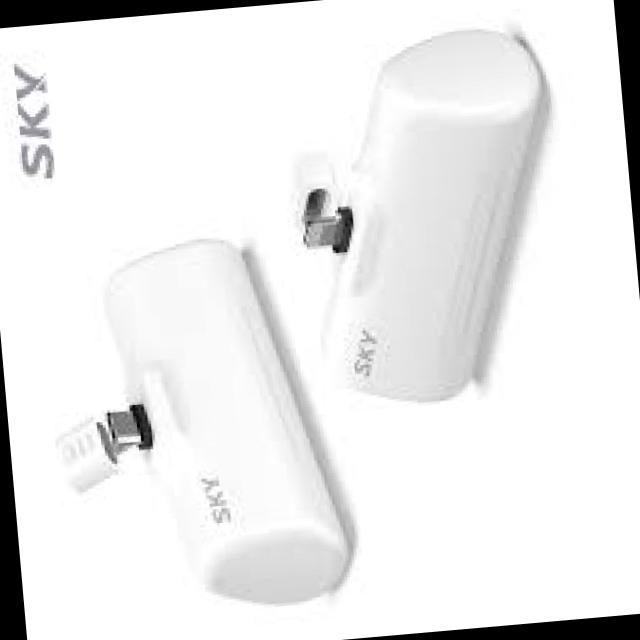portable-charger: (39, 224, 357, 626), (276, 19, 576, 423)
